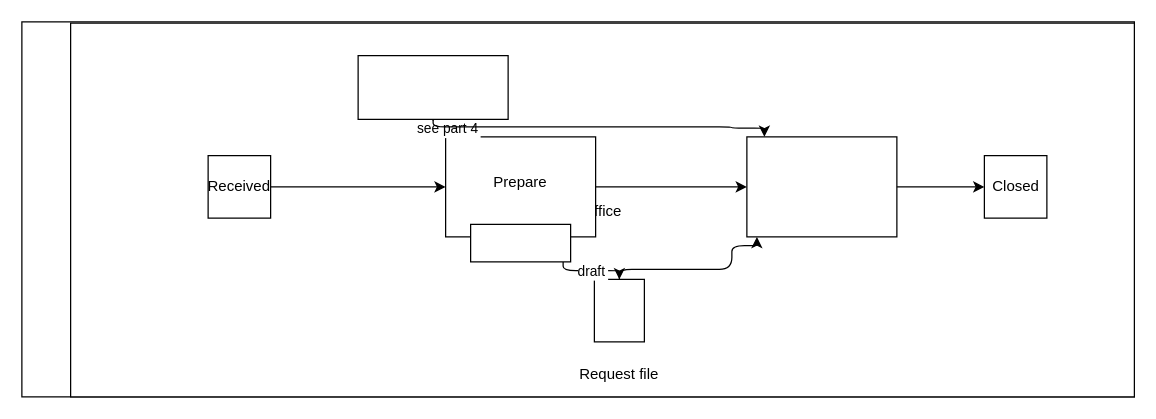
This 1156x419 diagram has some shape labels left out. The centre of each missing label's shape, as x and y in pixels:
"File tool" goes at point 520,242.
"Guide" goes at point 432,86.
"Review" goes at point 821,186.
